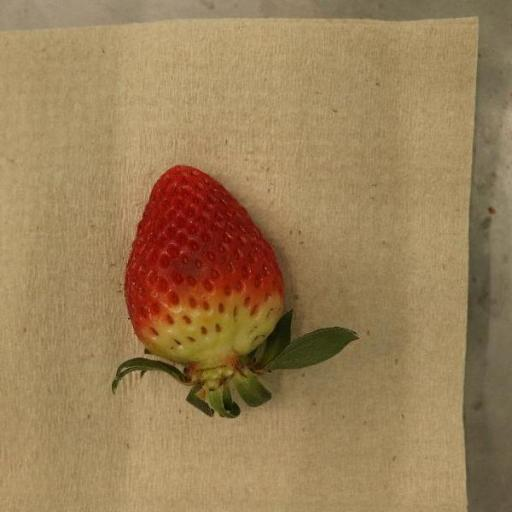Strawberry: (111, 166, 359, 420)
